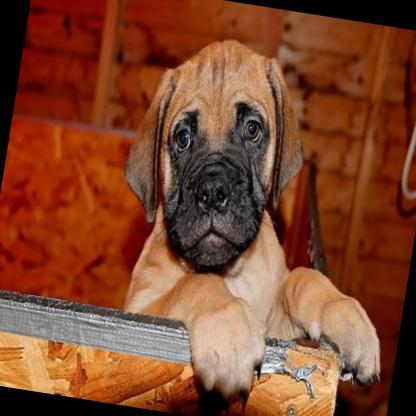bull_mastiff: (86, 26, 416, 416)
